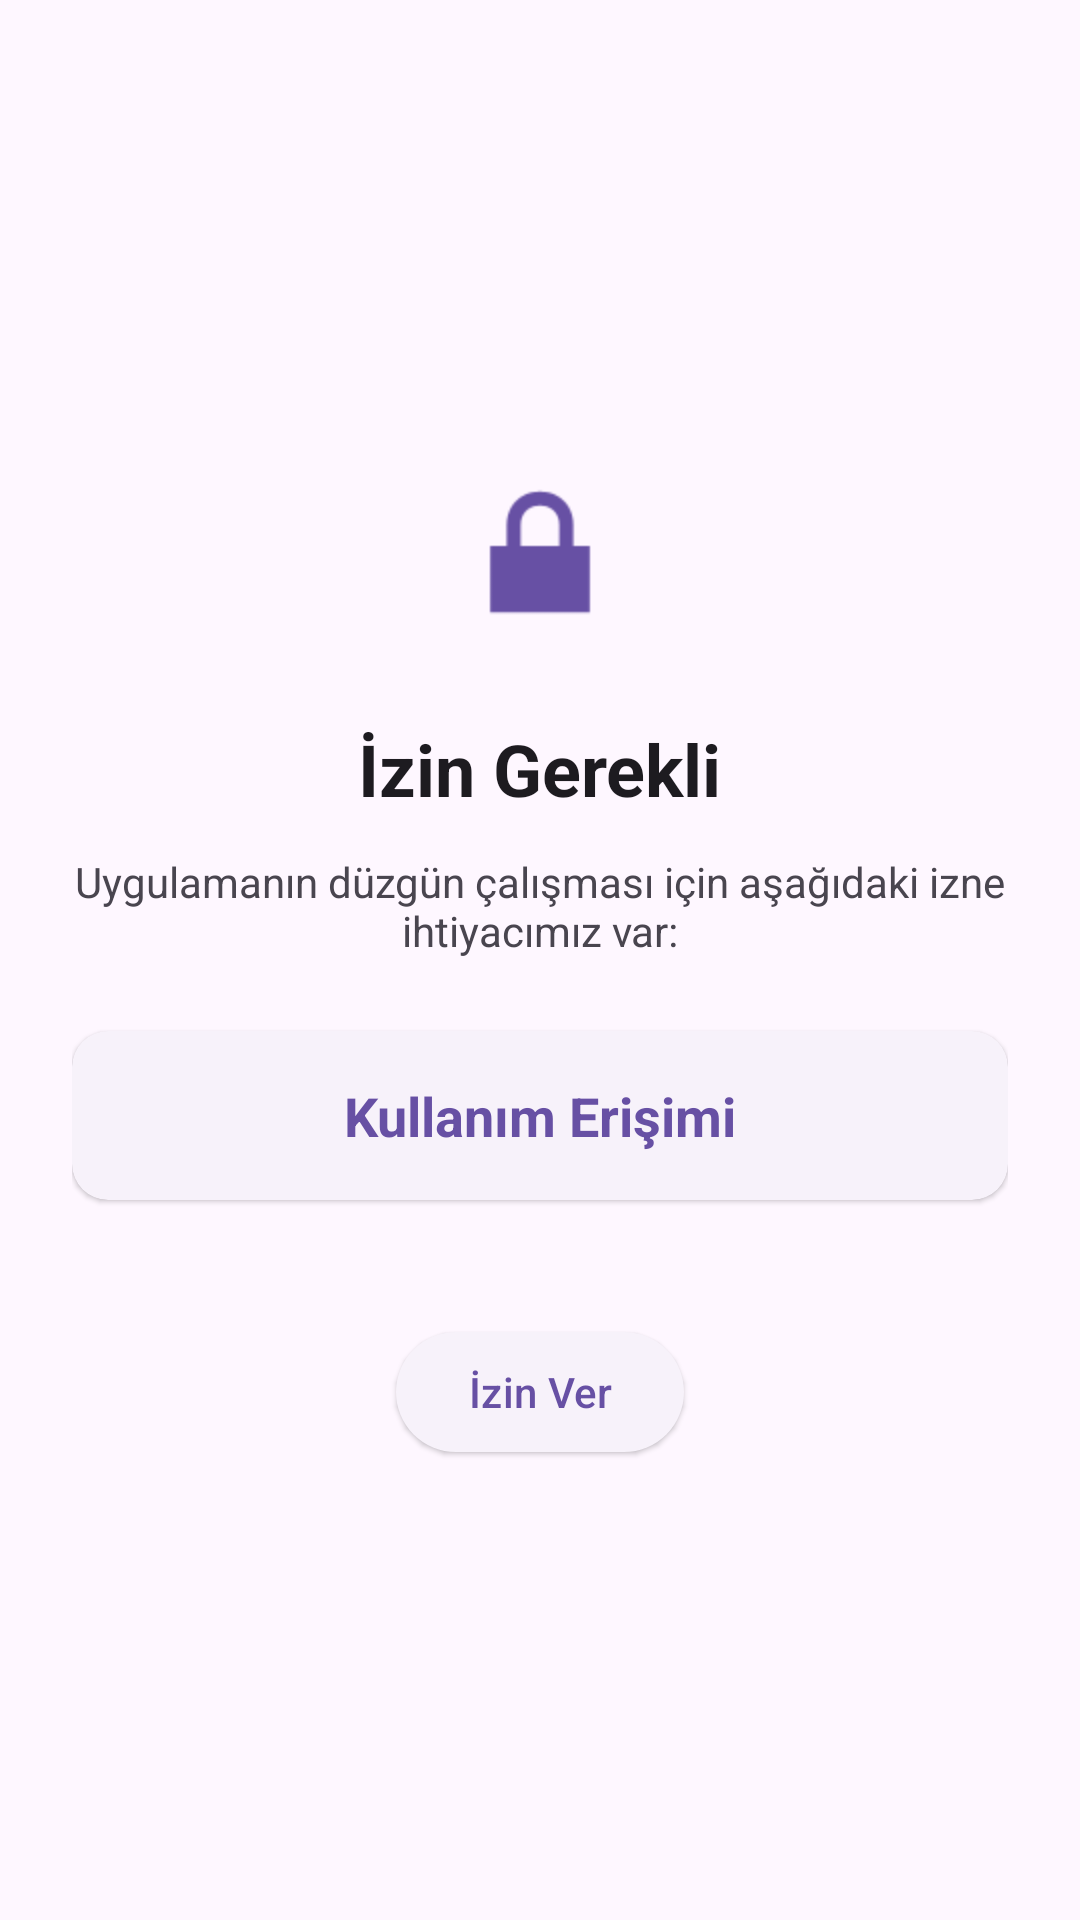

Named icons in this screenshot (1080×1920) and their centers, (x,y):
İzin simgesi: (540,552)
